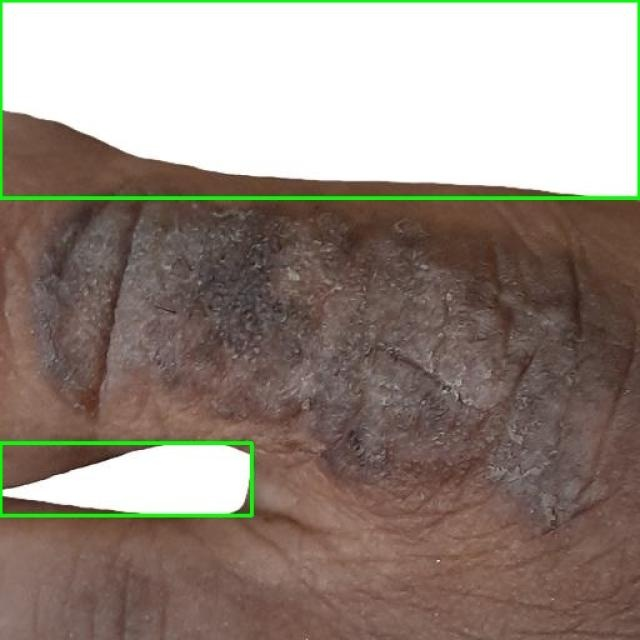Contact Dermatitis: (0, 0, 639, 198), (0, 442, 251, 515)
